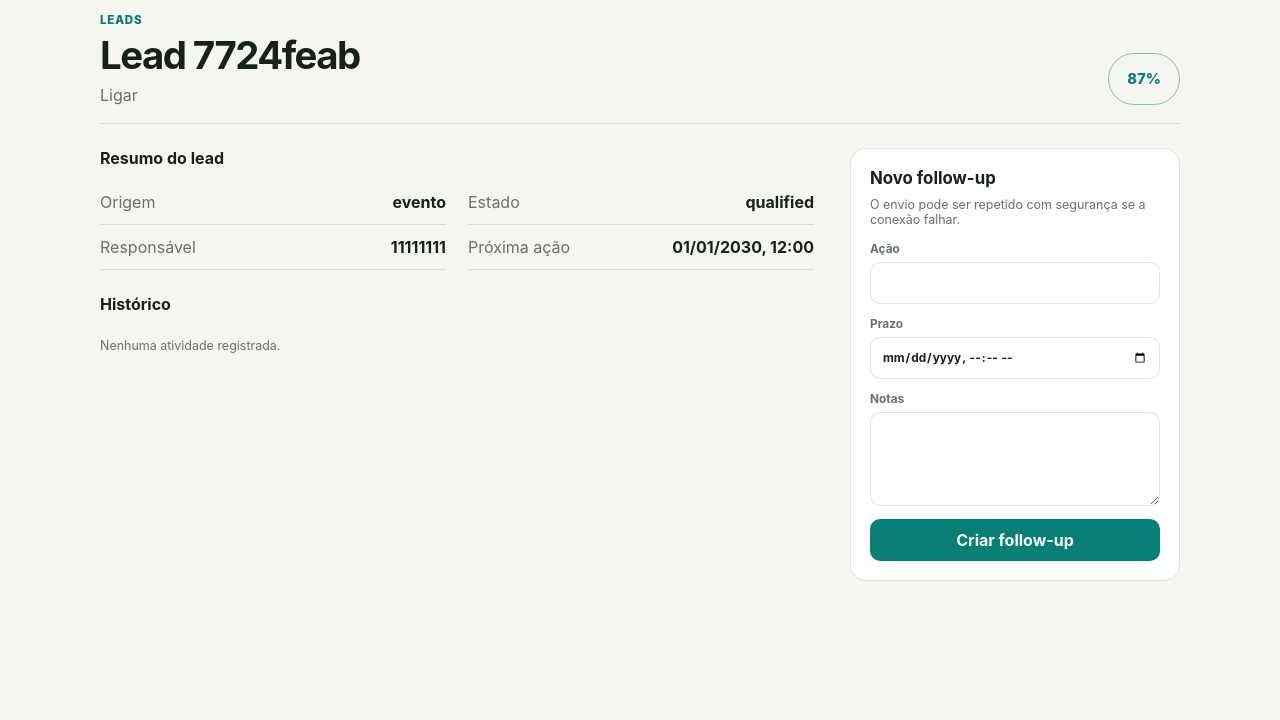
CommercialWorkspace › preserves follow-up fields and idempotency key across retry, then appends timeline
The width and height of the screenshot is (1280, 720).
expect the heading "Lead 7724feab" is shown: met, box [100, 32, 360, 78]
Type "Enviar proposta" into the field labelled "Ação" at coordinates (1015, 283), box [870, 262, 1160, 304]
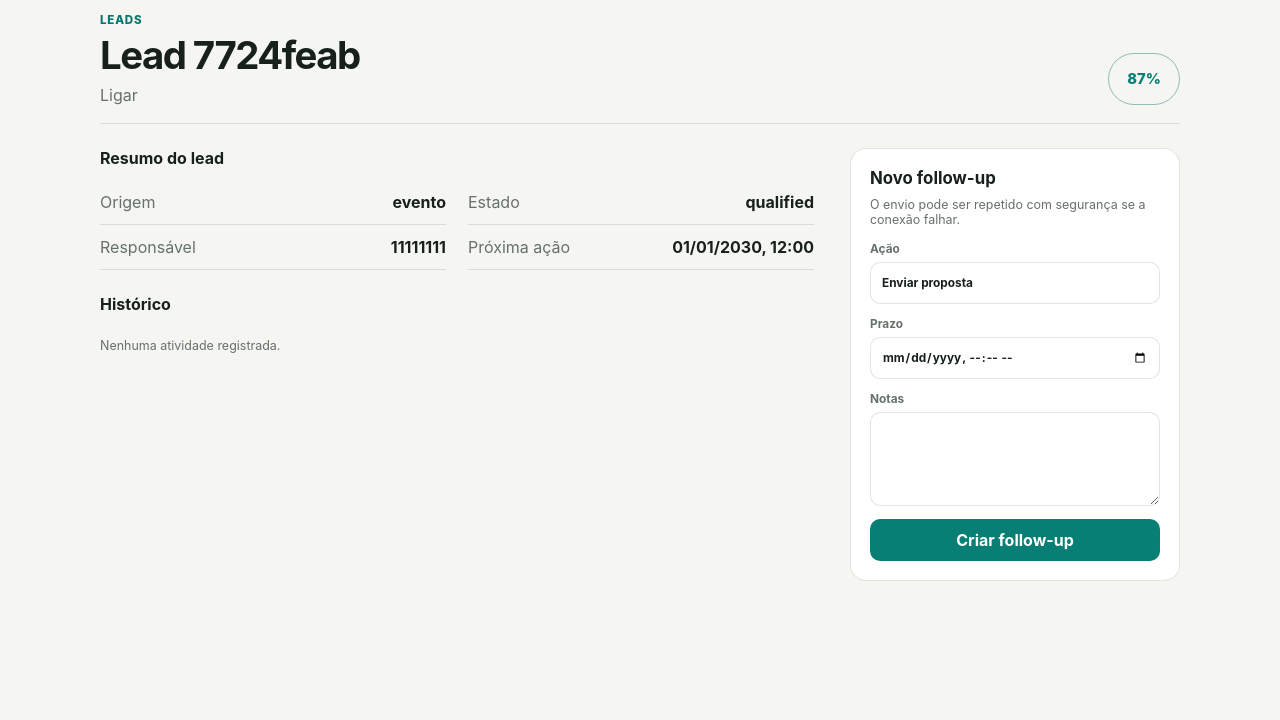
Type "2030-02-01T12:00" into the field labelled "Prazo" at coordinates (1015, 358), box [870, 337, 1160, 379]
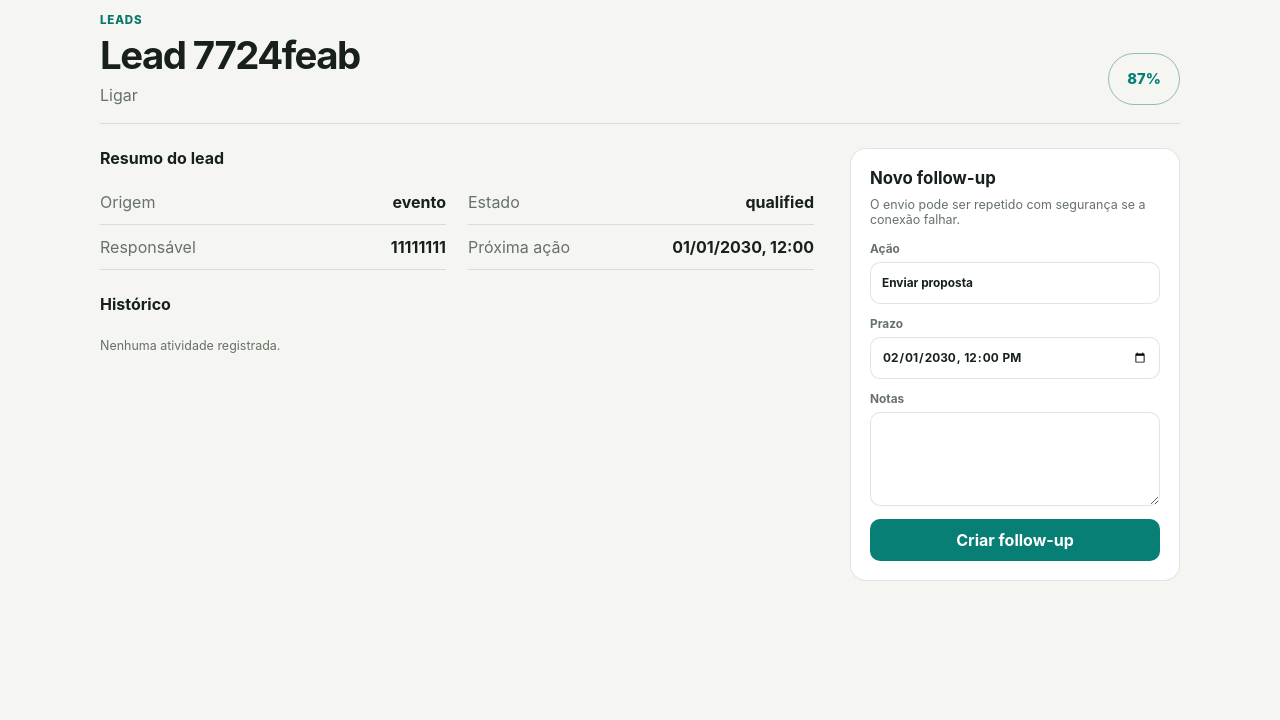
Submit the form named "Criar follow-up", box [850, 148, 1180, 581]
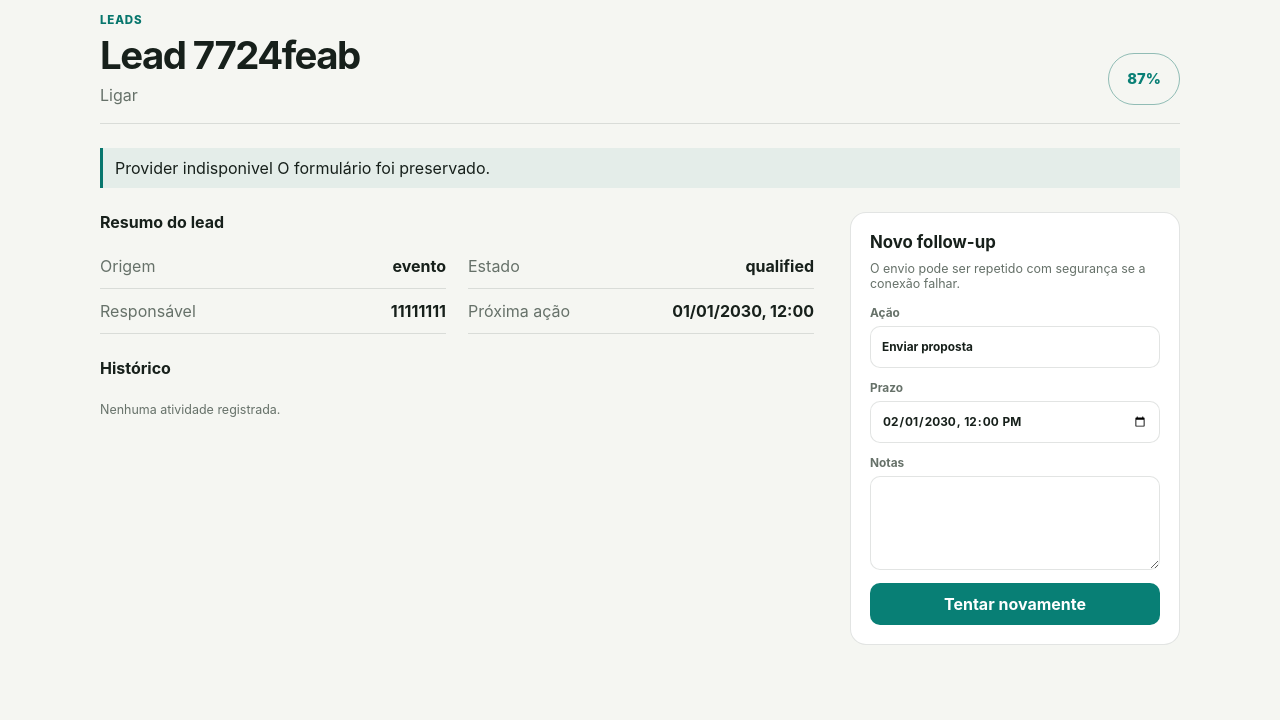
expect the button "Tentar novamente" is shown: met
Click the button "Tentar novamente" at coordinates (1015, 604), box [870, 583, 1160, 625]
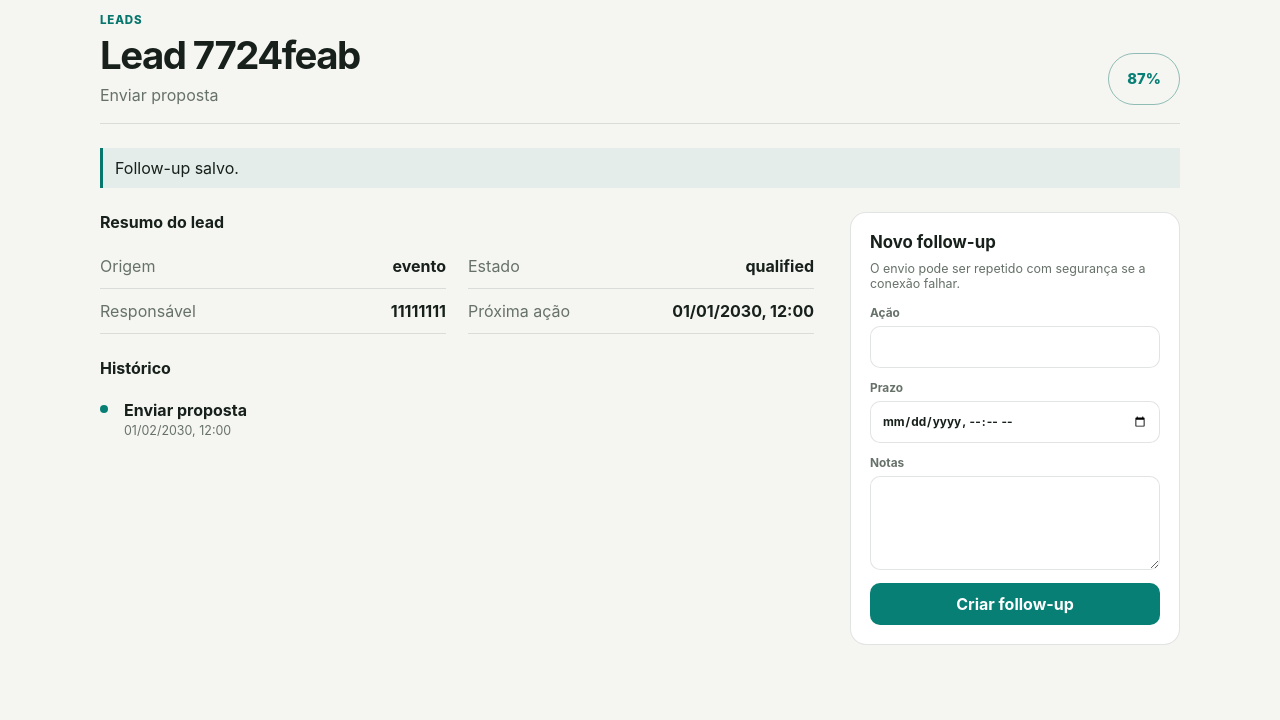
expect the text "Follow-up salvo." is shown: met, box [100, 148, 1180, 188]
expect the text "Enviar proposta" is shown 2 times: met, box [100, 85, 218, 105]; [124, 400, 247, 420]
